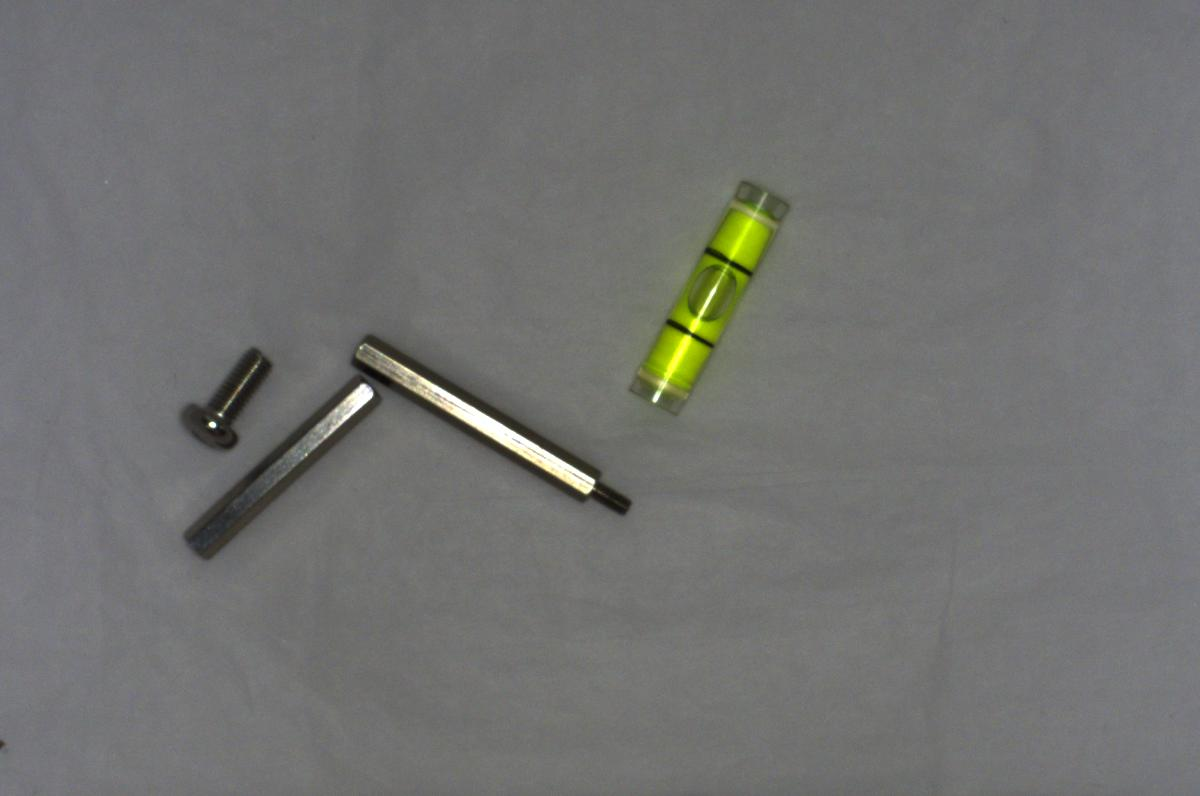Double hexagonal column: (186, 374, 382, 566)
Hexagonal steel column: (352, 335, 634, 518)
Horizontal bubble: (617, 169, 794, 402)
Round head screw: (173, 341, 275, 447)
